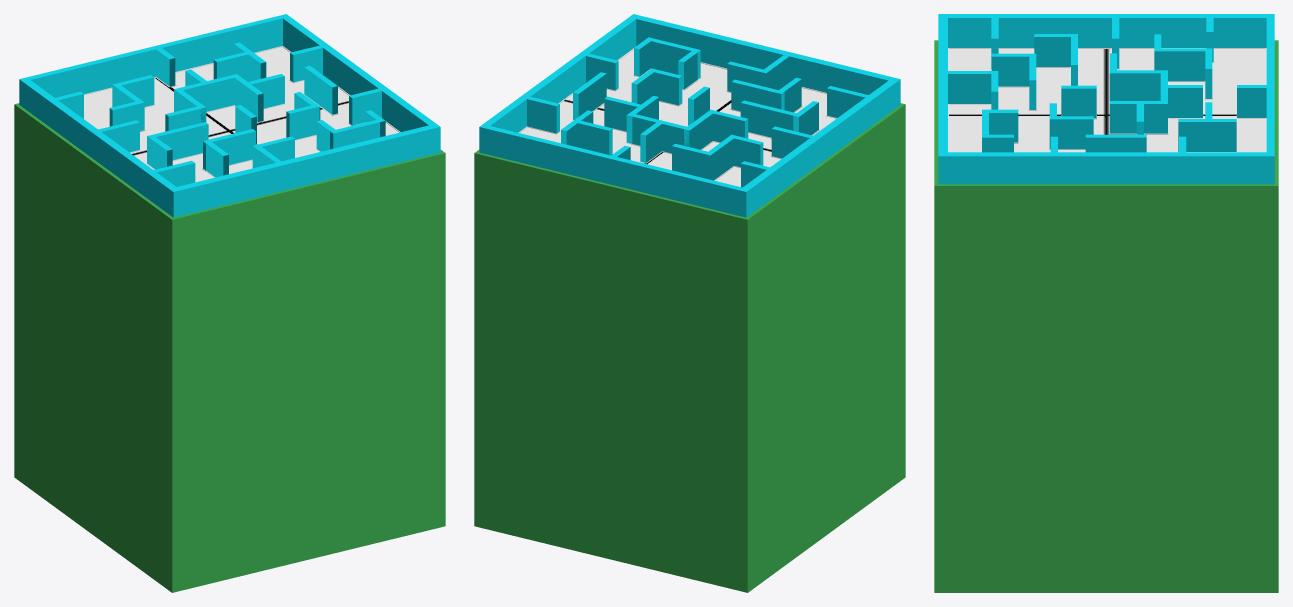
Rendered from Level_29.FBX.
The picture shows the model from 3 angles, left to right: view 1: azimuth 30°, elevation 25°; view 2: azimuth 150°, elevation 25°; view 3: azimuth 270°, elevation 25°; orthographic projection. The views are drawn at different scales.
Parts seen in each view (by area): view 1: Level_29; view 2: Level_29; view 3: Level_29.
Boxes of the visible parts, x1=… form: Level_29: x1=14, y1=14, x2=445, y2=592; Level_29: x1=474, y1=14, x2=905, y2=592; Level_29: x1=934, y1=14, x2=1278, y2=592.
Bounding box in the file's own units: 138 × 192 × 138.
